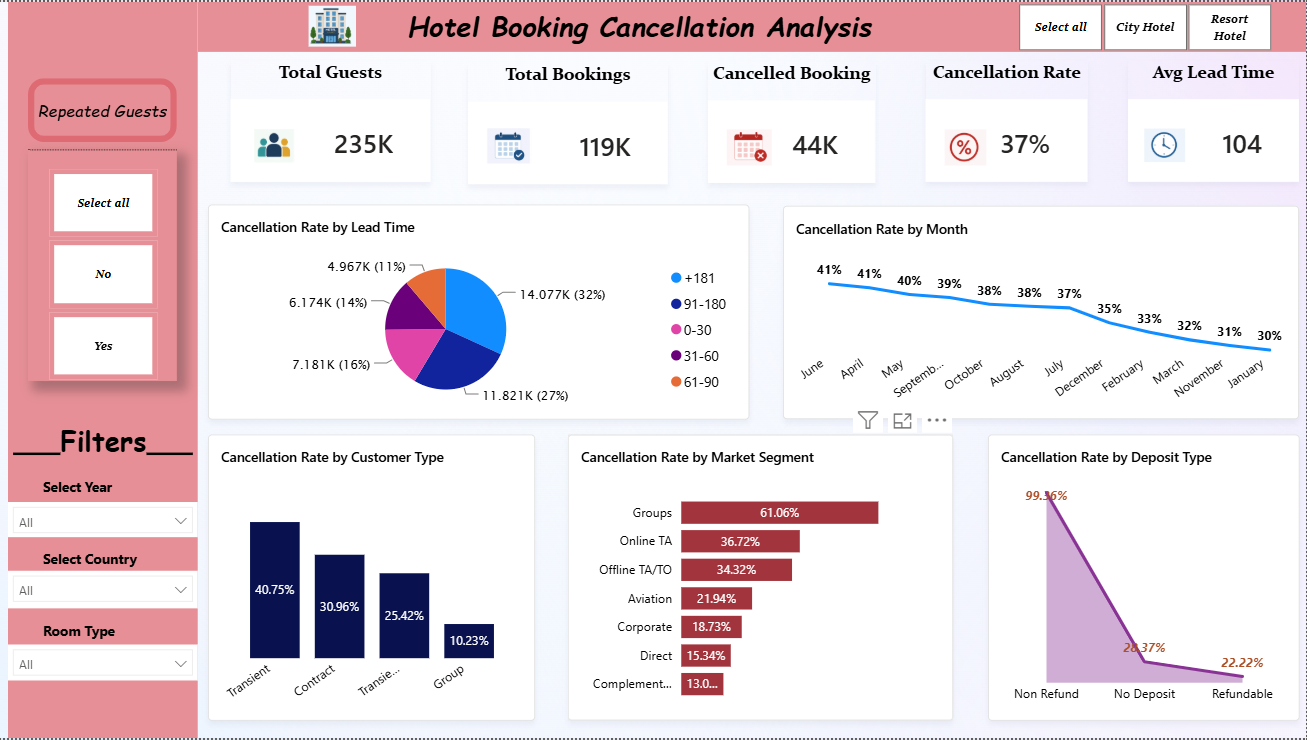

What the dashboard file says about the page in this screenshot:
{"tool":"powerbi","page":{"name":"Dashboard","canvas":[1280,720],"ordinal":0},"visuals":[{"type":"cardVisual","title":"Total Bookings","fields":{"Data":["hotel_bookings.Total Bokkings"]},"box":[459.8,59.9,195.7,118.6],"z":0},{"type":"cardVisual","title":"Cancelled Booking","fields":{"Data":["hotel_bookings.Cancelled Bookings"]},"box":[694.6,58.7,163.9,118.6],"z":1000},{"type":"cardVisual","title":"Cancellation Rate","fields":{"Data":["hotel_bookings.Cancellation Rate"]},"box":[907.3,57.5,159,118.6],"z":2000},{"type":"cardVisual","title":"Avg Lead Time","fields":{"Data":["Avg(hotel_bookings.lead_time)"]},"box":[1105.4,57.5,167.5,118.6],"z":3000},{"type":"pieChart","title":"Cancellation Rate by Lead Time","fields":{"Category":["hotel_bookings.Lead Time Group"],"Y":["hotel_bookings.Cancelled Bookings"]},"box":[205.4,198.1,529.5,210.3],"z":4000},{"type":"lineChart","title":"Cancellation Rate by Month","fields":{"Category":["hotel_bookings.arrival_date_month"],"Y":["hotel_bookings.Cancellation Rate"]},"box":[767.9,199.3,505,209.1],"z":5000},{"type":"columnChart","title":"Cancellation Rate by Customer Type","fields":{"Category":["hotel_bookings.customer_type"],"Y":["hotel_bookings.Cancellation Rate"]},"box":[205.4,423.1,320.4,280],"z":6000},{"type":"barChart","title":"Cancellation Rate by Market Segment","fields":{"Category":["hotel_bookings.market_segment"],"Y":["hotel_bookings.Cancellation Rate"]},"box":[557.6,423.1,376.6,280],"z":7000},{"type":"areaChart","title":"Cancellation Rate by Deposit Type","fields":{"Category":["hotel_bookings.deposit_type"],"Y":["hotel_bookings.Cancellation Rate"]},"box":[968.5,423.1,304.5,280],"z":8000},{"type":"image","box":[474.5,123.5,51.4,34.2],"z":12000},{"type":"image","box":[712.9,124.7,44,35.5],"z":13000},{"type":"image","box":[924.5,124.7,44,35.5],"z":14000},{"type":"image","box":[1121.3,119.8,40.4,40.4],"z":15000},{"type":"textbox","box":[9.8,0,185.9,720.2],"z":16000},{"type":"slicer","fields":{"Values":["hotel_bookings.arrival_date_year"]},"box":[9.8,489.1,185.9,34.2],"z":17000},{"type":"slicer","fields":{"Values":["hotel_bookings.country"]},"box":[9.8,556.4,185.9,36.7],"z":18000},{"type":"slicer","fields":{"Values":["hotel_bookings.arrival_date_year"]},"box":[9.8,628.5,185.9,35.5],"z":19000},{"type":"slicer","fields":{"Values":["hotel_bookings.Repeated Guest"]},"box":[29.3,144.3,145.5,226.2],"z":20000},{"type":"shape","title":"Repeated Guests","box":[29.3,74.6,145.5,62.4],"z":21000},{"type":"textbox","box":[195.7,0,1084.7,48.9],"z":22000},{"type":"cardVisual","title":"Total Guests","fields":{"Data":["hotel_bookings.Total Guests"]},"box":[227.4,57.5,195.7,118.6],"z":23000},{"type":"slicer","fields":{"Values":["hotel_bookings.hotel"]},"box":[978.3,0,286.1,48.9],"z":23001},{"type":"image","box":[250.7,123.5,40.4,34.2],"z":23002},{"type":"image","box":[205.4,3.7,243.3,40.4],"z":23003}]}

Visuals, with their boxes in screenshot pixels (x1, y1, x2, y2), scaled from the page's 1280x720 canvas onto the 1307x740 screenshot:
"Total Bookings" cardVisual: BBox(469, 62, 669, 183)
"Cancelled Booking" cardVisual: BBox(709, 60, 877, 182)
"Cancellation Rate" cardVisual: BBox(926, 59, 1089, 181)
"Avg Lead Time" cardVisual: BBox(1129, 59, 1300, 181)
"Cancellation Rate by Lead Time" pieChart: BBox(210, 204, 750, 420)
"Cancellation Rate by Month" lineChart: BBox(784, 205, 1300, 420)
"Cancellation Rate by Customer Type" columnChart: BBox(210, 435, 537, 723)
"Cancellation Rate by Market Segment" barChart: BBox(569, 435, 954, 723)
"Cancellation Rate by Deposit Type" areaChart: BBox(989, 435, 1300, 723)
image: BBox(485, 127, 537, 162)
image: BBox(728, 128, 773, 165)
image: BBox(944, 128, 989, 165)
image: BBox(1145, 123, 1186, 165)
textbox: BBox(10, 0, 200, 739)
slicer - hotel_bookings.arrival_date_year: BBox(10, 503, 200, 538)
slicer - hotel_bookings.country: BBox(10, 572, 200, 610)
slicer - hotel_bookings.arrival_date_year: BBox(10, 646, 200, 682)
slicer - hotel_bookings.Repeated Guest: BBox(30, 148, 178, 381)
"Repeated Guests" shape: BBox(30, 77, 178, 141)
textbox: BBox(200, 0, 1306, 50)
"Total Guests" cardVisual: BBox(232, 59, 432, 181)
slicer - hotel_bookings.hotel: BBox(999, 0, 1291, 50)
image: BBox(256, 127, 297, 162)
image: BBox(210, 4, 458, 45)
